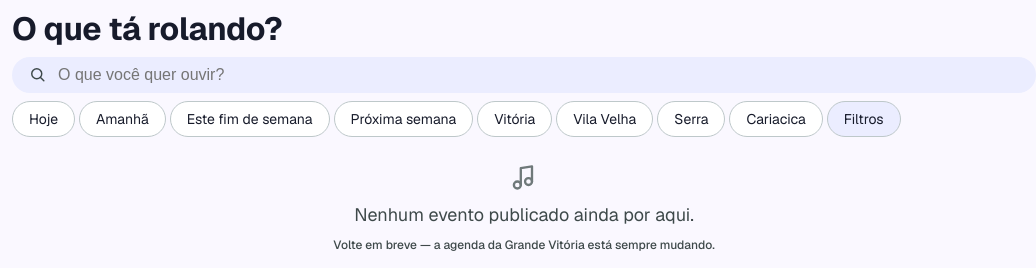
Test: EventFeedPage › given a visitor when search has no matches then an explicit no-results message is shown
The image size is (1036, 268).
In the search field: {"x": 538, "y": 75} [56,65,1020,85], type "zzzz"
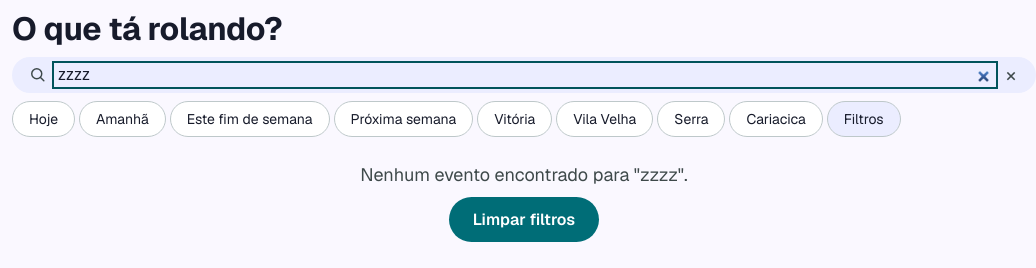
Result: the text "Nenhum evento encontrado para \"zzzz\"." is shown at [360,161,688,189]
